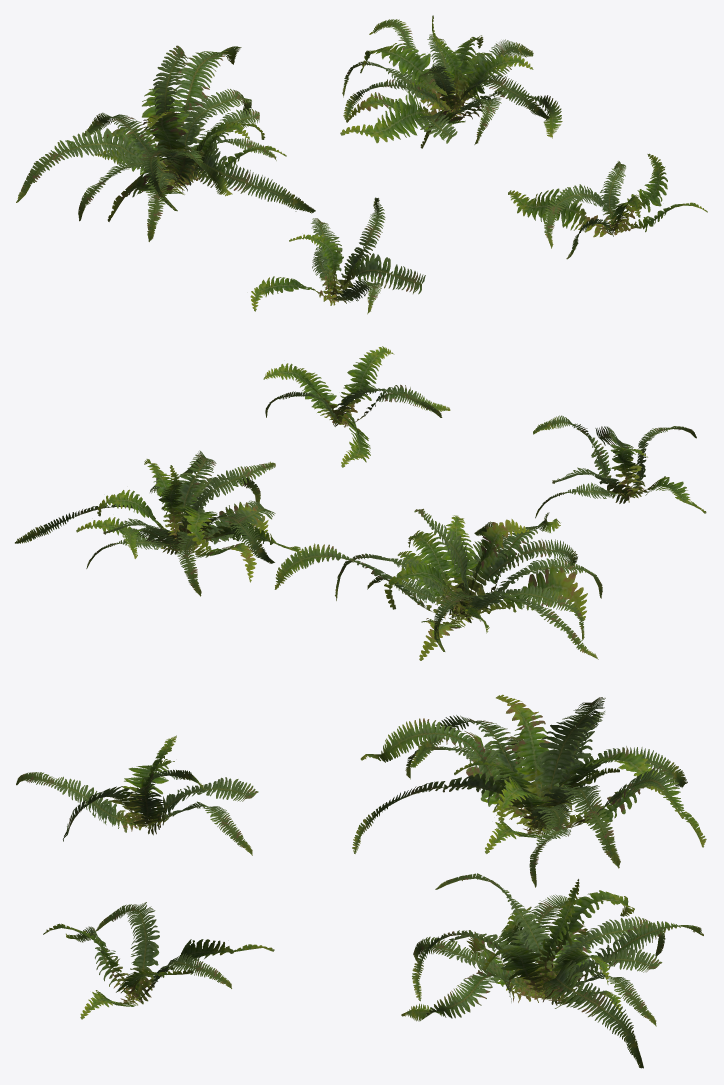
Rendered from fern_02.glb.
3 views of the same model, one above another, from view 1: azimuth 30°, elevation 25°; view 2: azimuth 150°, elevation 25°; view 3: azimuth 270°, elevation 25° (orthographic). The views are drawn at different scales.
Visible parts, largest first — view 1: fern_02_b, fern_02_c, fern_02_a, fern_02_d; view 2: fern_02_b, fern_02_c, fern_02_d, fern_02_a; view 3: fern_02_b, fern_02_c, fern_02_a, fern_02_d.
Boxes of the visible parts, <box> form: fern_02_b: <box>16,45,315,241</box>; fern_02_c: <box>340,15,562,148</box>; fern_02_a: <box>250,197,425,314</box>; fern_02_d: <box>508,153,707,259</box>; fern_02_b: <box>274,508,602,660</box>; fern_02_c: <box>15,450,301,596</box>; fern_02_d: <box>263,346,450,467</box>; fern_02_a: <box>533,415,706,518</box>; fern_02_b: <box>352,694,706,887</box>; fern_02_c: <box>401,873,703,1068</box>; fern_02_a: <box>16,735,258,855</box>; fern_02_d: <box>43,902,274,1019</box>.
Bounding box in the file's own units: 1.97 × 0.4277 × 1.72.
Materials: 1 (1 with a texture image).
